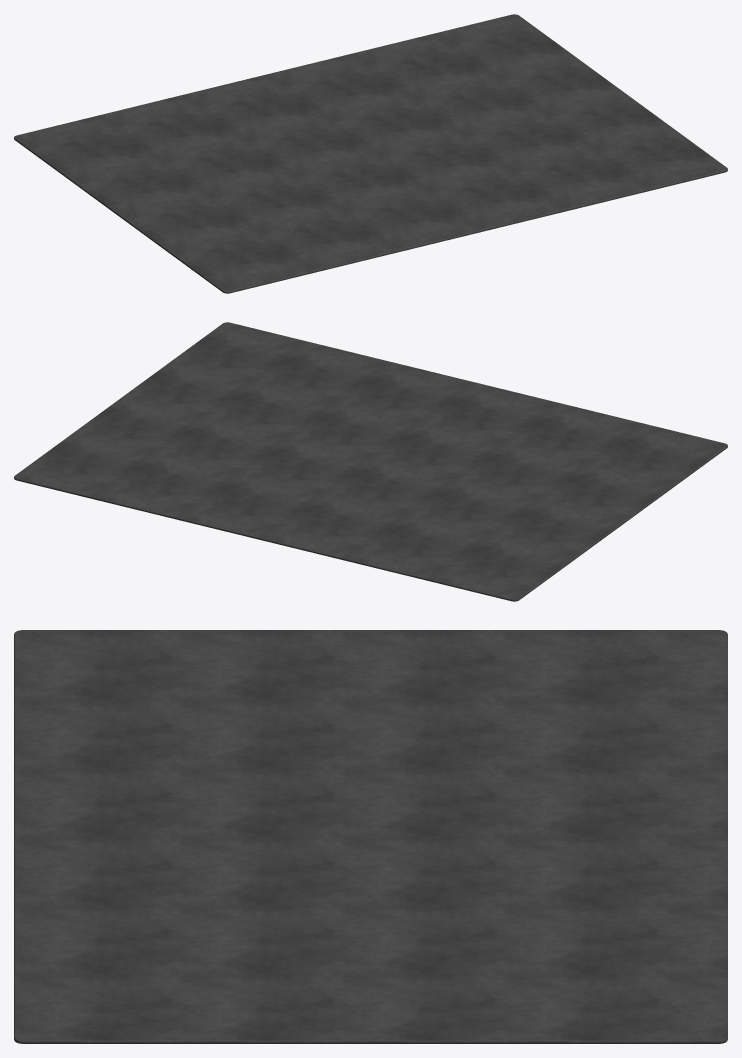
File: rug.glb
3 views of the same model, one above another, from view 1: azimuth 30°, elevation 25°; view 2: azimuth 150°, elevation 25°; view 3: azimuth 270°, elevation 25° (orthographic). The views are drawn at different scales.
Visible parts, largest first — view 1: Rug_Body; view 2: Rug_Body; view 3: Rug_Body.
Boxes of the visible parts, box(x1,y1,x2,y2) form: Rug_Body: box(14, 14, 727, 293); Rug_Body: box(14, 322, 727, 601); Rug_Body: box(14, 630, 727, 1043).
Bounding box in the file's own units: 3 × 0.012 × 2.2.
1 material, 1 textured.
